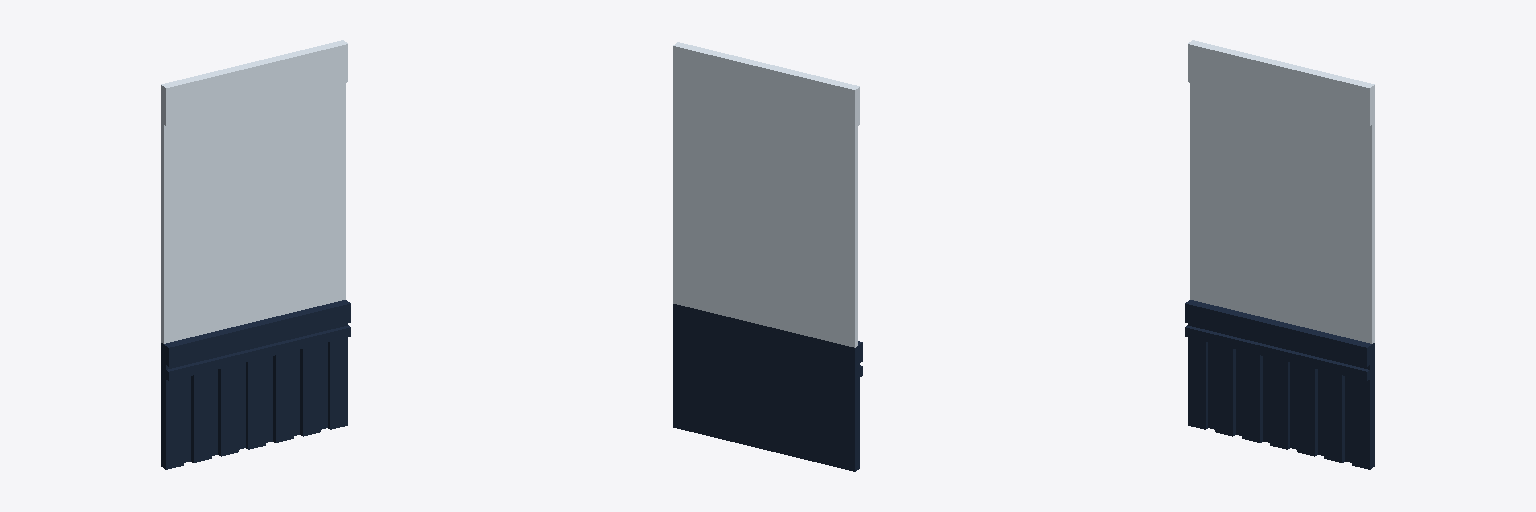
3 renders of one model, left to right at view 1: azimuth 30°, elevation 25°; view 2: azimuth 150°, elevation 25°; view 3: azimuth 330°, elevation 25°, orthographic.
Visible parts, largest first — view 1: object 1; view 2: object 1; view 3: object 1.
Part boxes in pixels (x1,y1,x2,y2): object 1: (161, 40, 350, 469); object 1: (673, 42, 862, 471); object 1: (1185, 40, 1374, 469).
Bounding box in the file's own units: 4 × 8 × 0.3.
Materials: 1 (1 with a texture image).